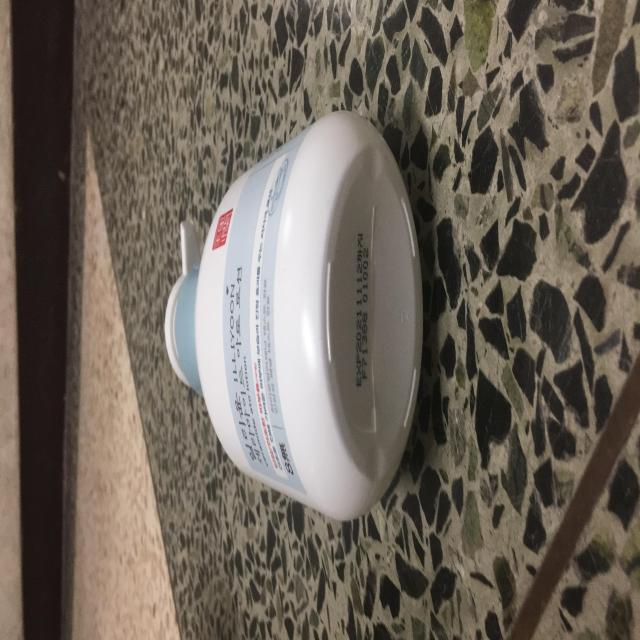bottle: (159, 94, 428, 530)
